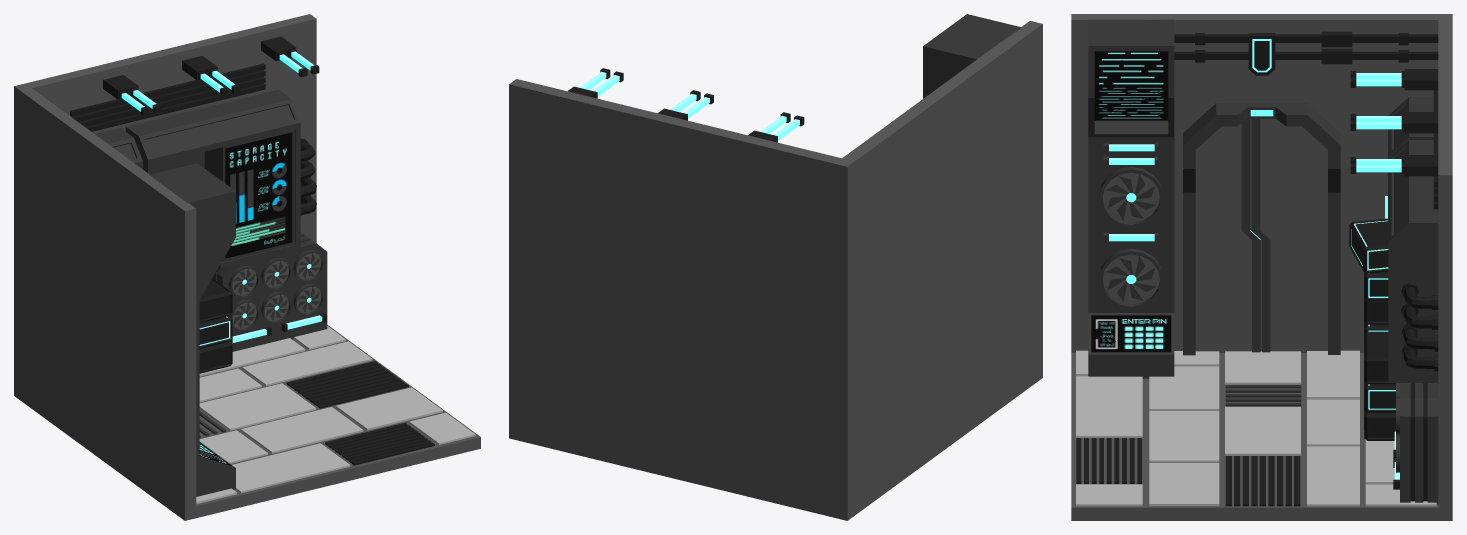
The model's file is low_poly_-_sci-fi_storage_room_free_download.glb.
3 renders of one model, left to right at view 1: azimuth 30°, elevation 25°; view 2: azimuth 150°, elevation 25°; view 3: azimuth 270°, elevation 25°, orthographic. The views are drawn at different scales.
Parts seen in each view (by area): view 1: MAIN_0, FLOOR_3; view 2: MAIN_0; view 3: MAIN_0, FLOOR_3, DOOR_2.
Part boxes in pixels (bbox=[...]): MAIN_0: bbox=[14, 14, 480, 520]; FLOOR_3: bbox=[196, 326, 475, 504]; MAIN_0: bbox=[509, 14, 1042, 520]; MAIN_0: bbox=[1071, 14, 1452, 520]; FLOOR_3: bbox=[1076, 350, 1436, 506]; DOOR_2: bbox=[1183, 103, 1340, 355].
Bounding box in the file's own units: 2.63 × 2.63 × 2.63.
Materials: 7 (1 with a texture image).
